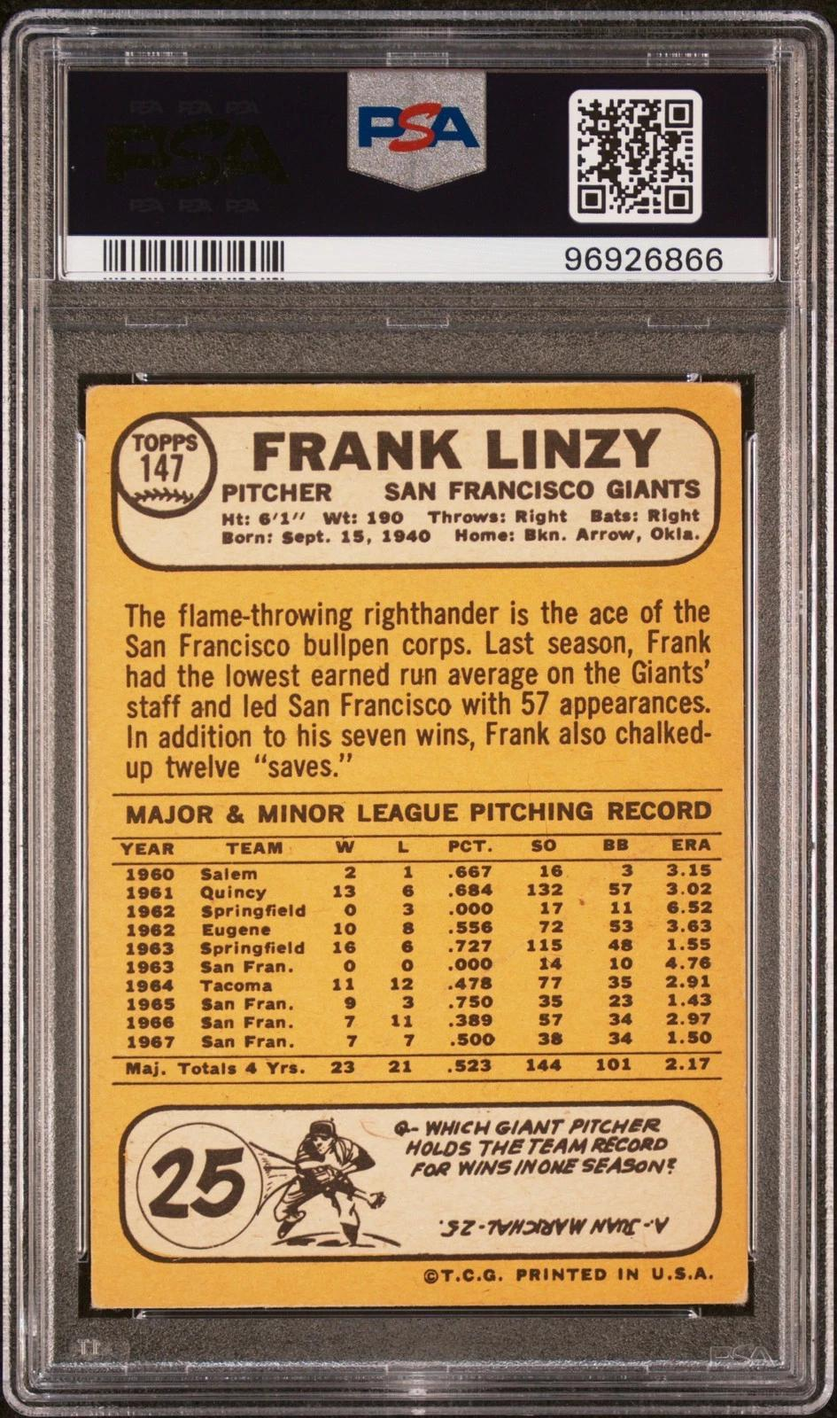card-2UtV: (85, 378, 750, 1312)
